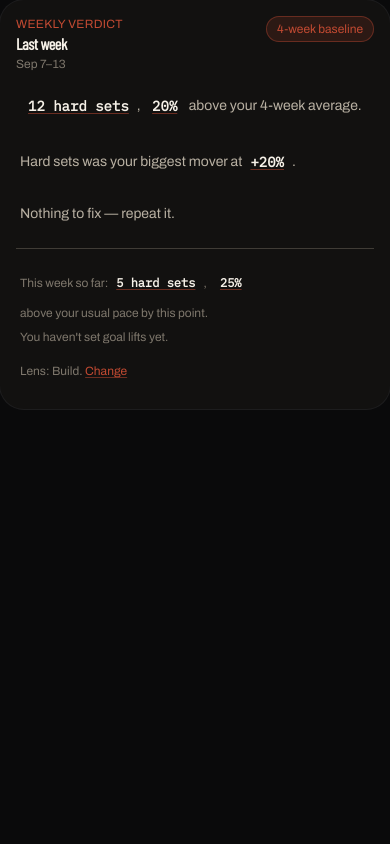
Scenario: WeeklyVerdictCard goal lens › opens the goal lens picker from the labelled "Change" action
Click the button "Change".
click(106, 371)  # box [85,349,127,393]
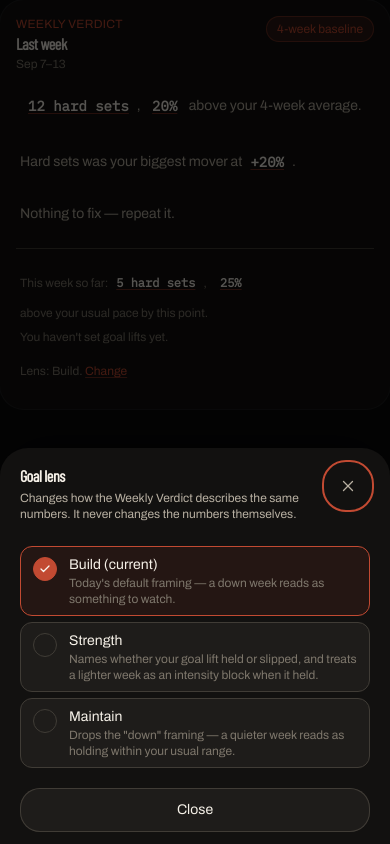
Result: the dialog "Goal lens" is shown at [0,448,389,843]
